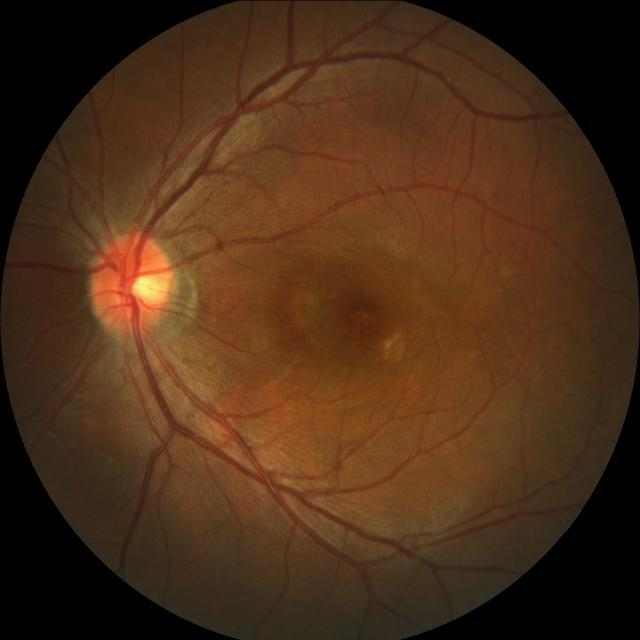OC: (131, 270, 163, 302)
OD: (88, 232, 172, 334)
